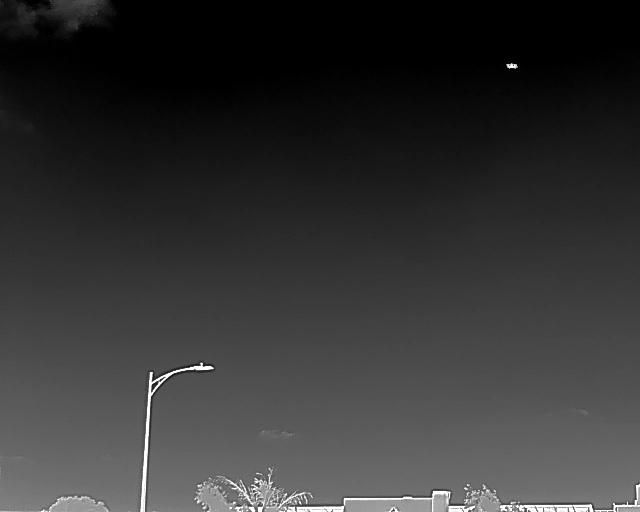fpv-drone: (506, 63, 517, 68)
